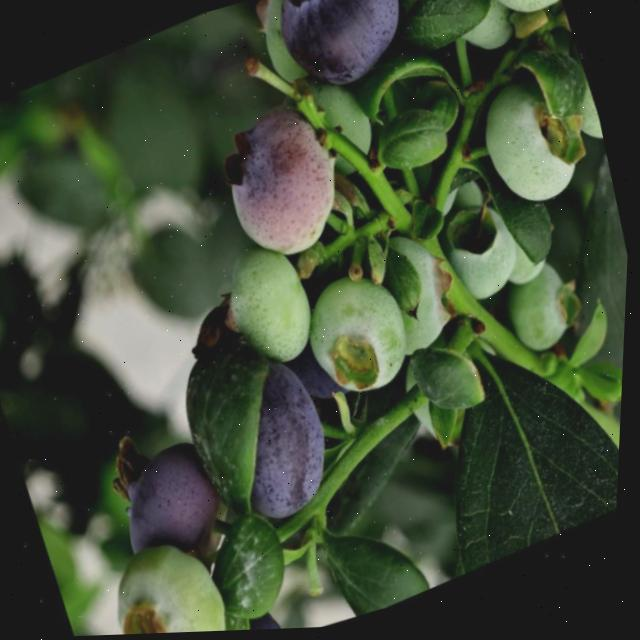RipeBlueBerry: (200, 337, 358, 542), (96, 428, 247, 592), (254, 0, 428, 119), (153, 609, 300, 635)
Semi-RipeBlueBerry: (193, 88, 367, 286)
UnripeBlueBerry: (457, 58, 604, 232), (283, 257, 433, 422), (200, 232, 334, 391), (358, 219, 480, 371), (94, 520, 252, 637), (428, 193, 538, 319), (493, 253, 601, 368), (447, 0, 564, 44)
